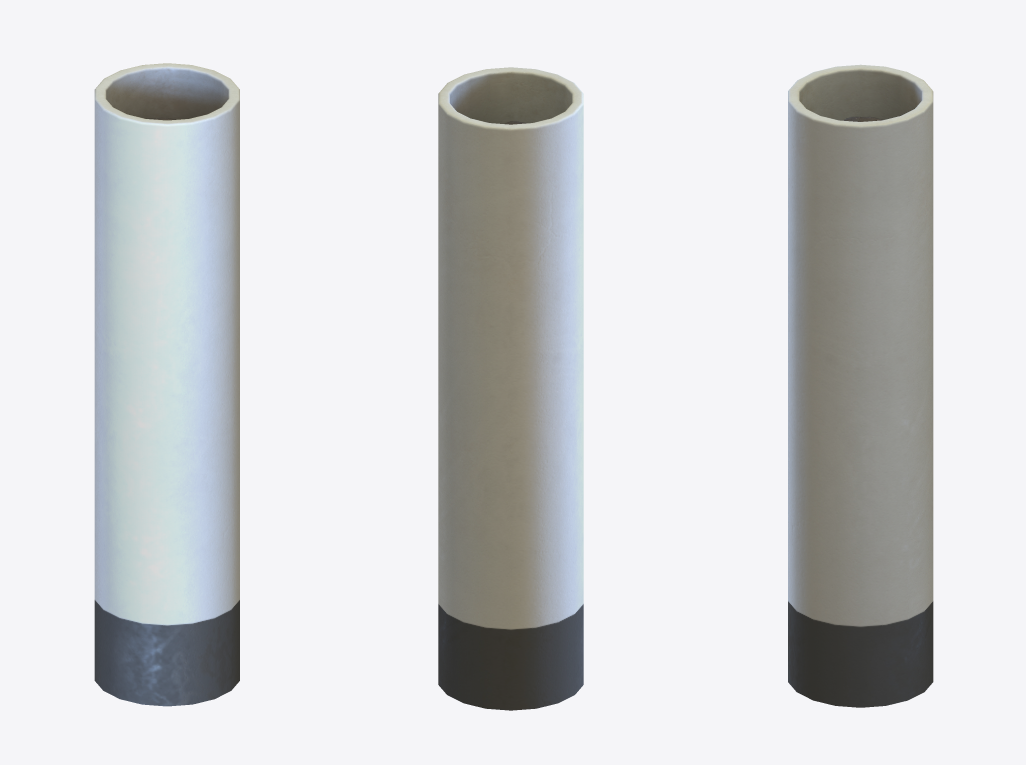
The model's file is geco_growth_vase.glb.
3 renders of one model, left to right at view 1: azimuth 30°, elevation 25°; view 2: azimuth 150°, elevation 25°; view 3: azimuth 270°, elevation 25°, orthographic.
Visible parts, largest first — view 1: pot; view 2: pot; view 3: pot.
Part boxes in pixels (left/top/right/bottom): pot: left=94, top=63, right=239, bottom=706; pot: left=438, top=67, right=583, bottom=710; pot: left=788, top=64, right=933, bottom=707.
Size of the model in its own units: 0.0935 by 0.1987 by 0.0935.
Materials: 3 (2 with a texture image).
